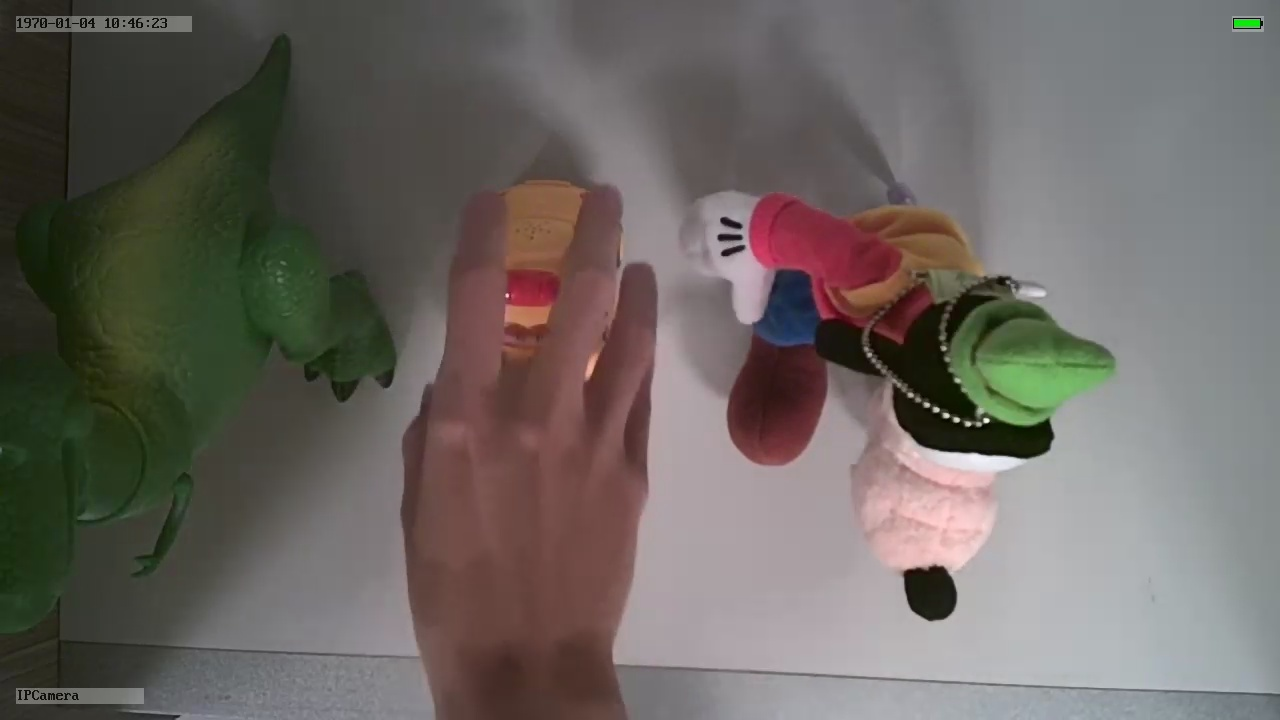goofy: (667, 185, 1119, 627)
